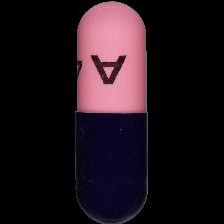16590-016: (0, 0, 224, 224)
